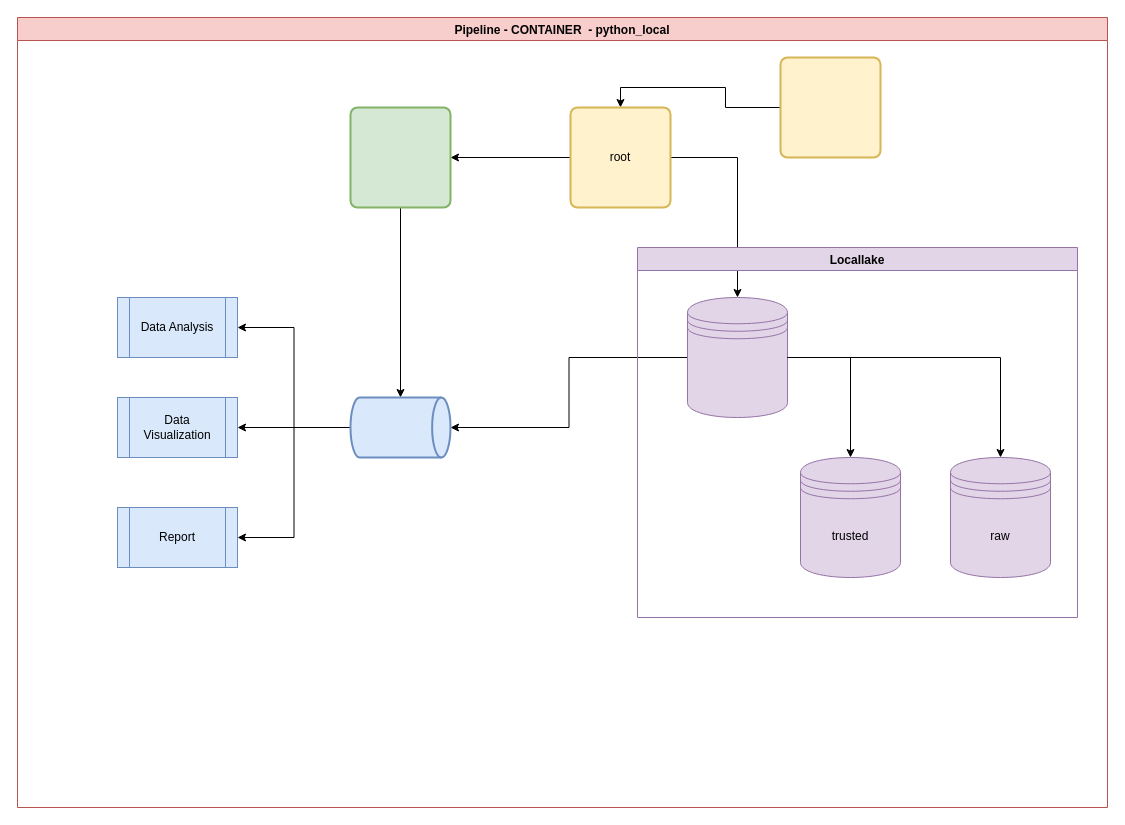
Some shapes in this 1125 by 825 pixel diagram are drawn without their labels. Here are the shapes that lost their labels. From the top down, the box of each, then its label:
(779, 56, 881, 158): /project
(349, 106, 451, 208): Jupyter
(686, 296, 788, 418): localllake
(349, 396, 451, 458): pipe
